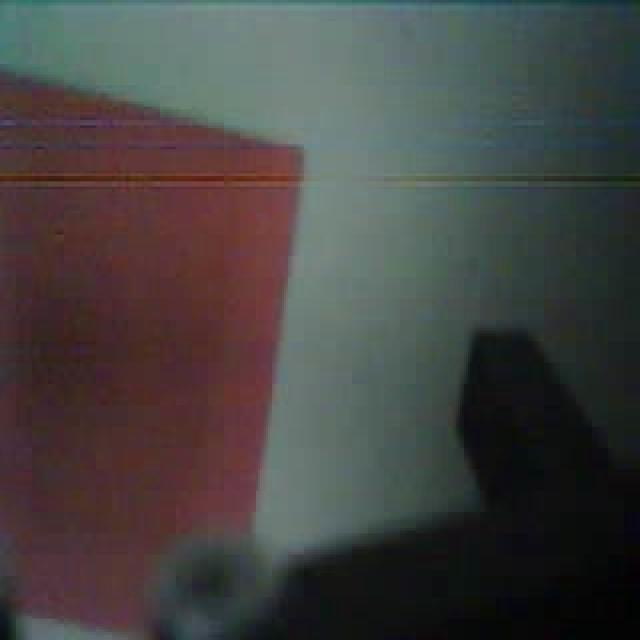red_box: (2, 73, 292, 630)
